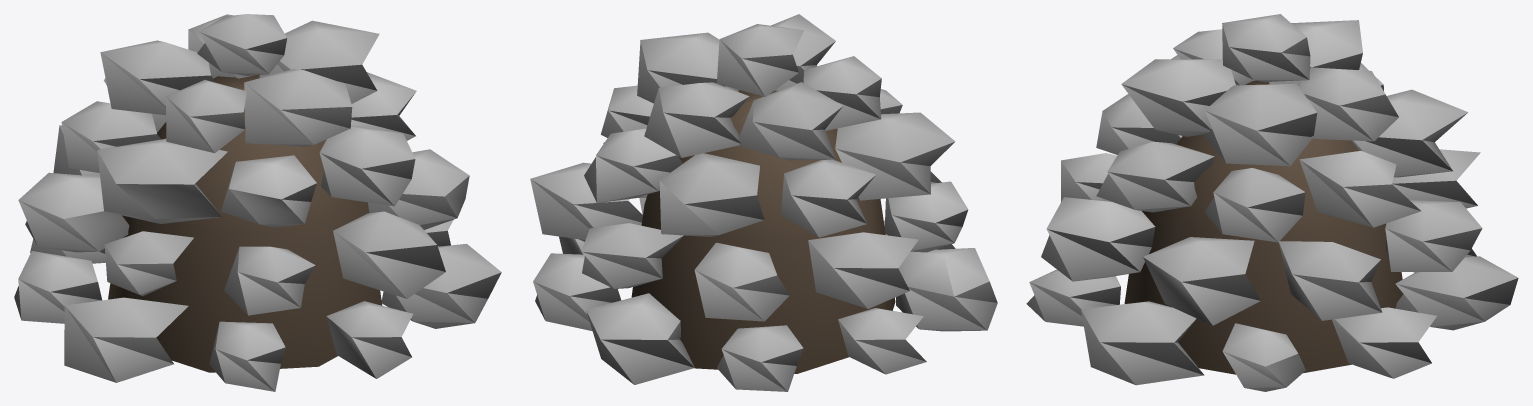
File: rare_vault.glb
3 views of the same model, side by side, from view 1: azimuth 30°, elevation 25°; view 2: azimuth 150°, elevation 25°; view 3: azimuth 270°, elevation 25° (orthographic). The views are drawn at different scales.
Visible parts, largest first — view 1: rare_vault, rare_vault_trim; view 2: rare_vault, rare_vault_trim; view 3: rare_vault, rare_vault_trim.
Part boxes in pixels (x1=…): rare_vault: x1=14, y1=14, x2=501, y2=391; rare_vault_trim: x1=108, y1=75, x2=382, y2=372; rare_vault: x1=530, y1=14, x2=997, y2=391; rare_vault_trim: x1=631, y1=90, x2=895, y2=373; rare_vault: x1=1026, y1=14, x2=1518, y2=391; rare_vault_trim: x1=1124, y1=80, x2=1403, y2=374.
Bounding box in the file's own units: 1.02 × 0.6931 × 1.03.
